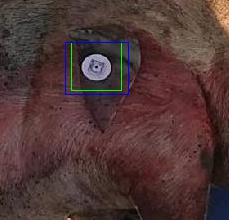text: (71, 42, 121, 90)
